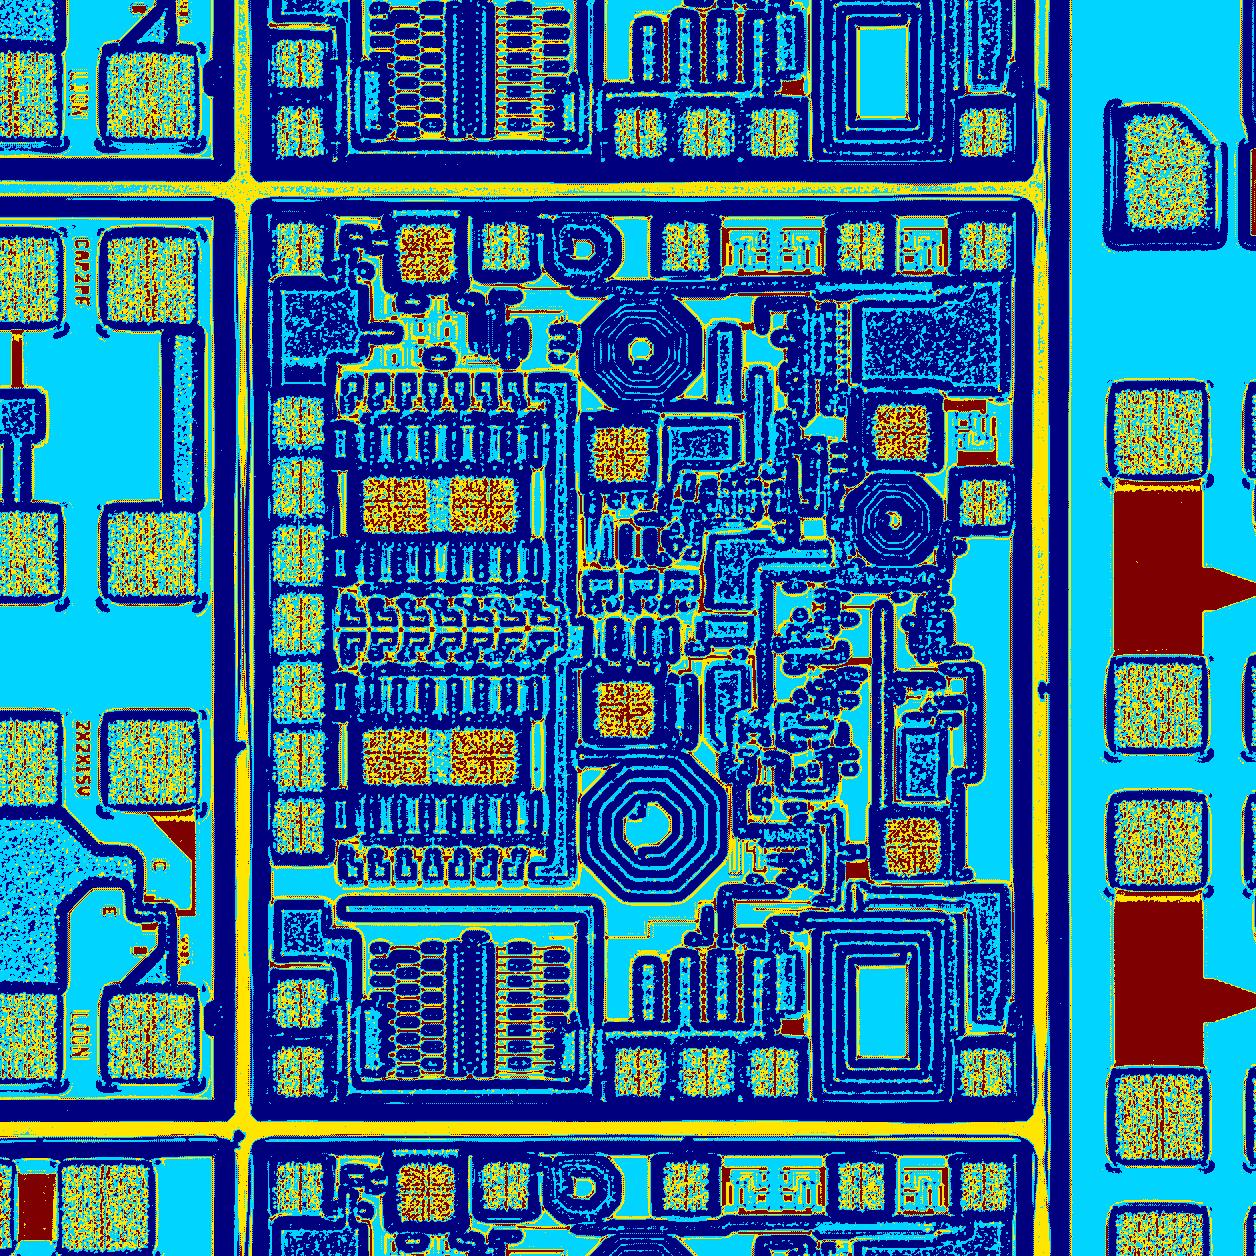Die: (248, 197, 1032, 1120)
Pad 1: (362, 727, 432, 784), (449, 727, 518, 784), (362, 476, 430, 534), (447, 476, 516, 533), (883, 815, 942, 874), (397, 224, 455, 282), (597, 680, 654, 737), (873, 403, 929, 461), (591, 426, 650, 482)
Pad 2: (271, 593, 326, 654), (271, 524, 326, 585), (273, 729, 326, 791), (273, 457, 326, 519), (273, 661, 326, 722), (273, 797, 326, 853), (273, 396, 326, 449), (681, 1046, 734, 1096), (274, 1046, 326, 1096), (275, 978, 328, 1027), (959, 222, 1010, 271), (959, 1047, 1011, 1095), (275, 223, 323, 275), (614, 1047, 664, 1096), (750, 1048, 798, 1096), (663, 222, 710, 271), (483, 222, 530, 271), (960, 478, 1009, 526), (838, 222, 886, 269)
